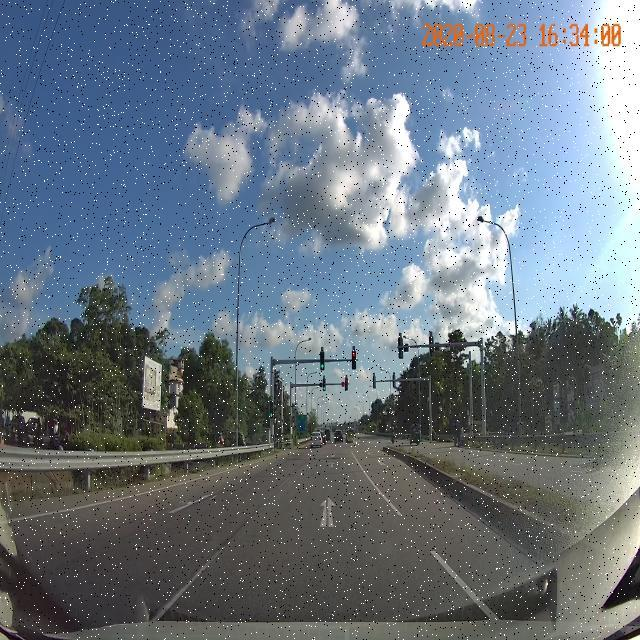forward: (221, 482, 430, 547)
